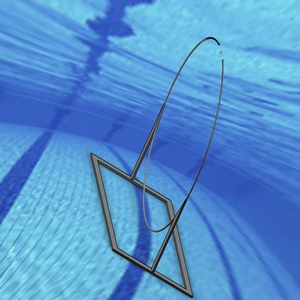circle: (90, 36, 226, 298)
